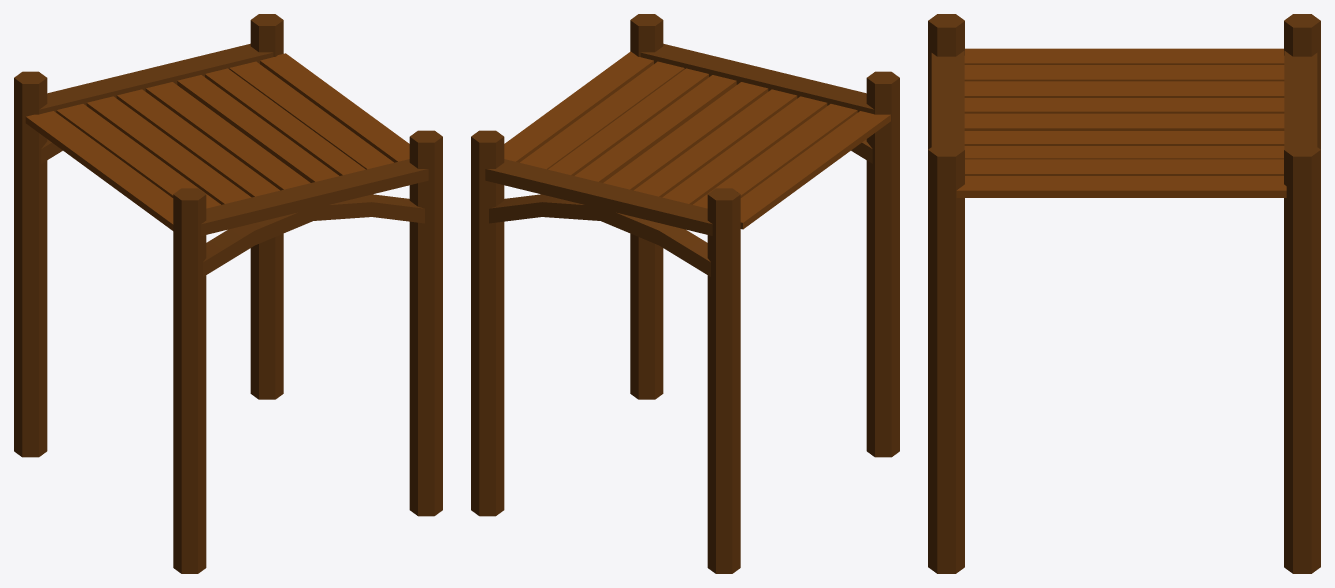
Rendered from Mesh_Small_Dock.fbx.
3 views of the same model, side by side, from view 1: azimuth 30°, elevation 25°; view 2: azimuth 150°, elevation 25°; view 3: azimuth 270°, elevation 25° (orthographic). The views are drawn at different scales.
Parts seen in each view (by area): view 1: Small_Dock; view 2: Small_Dock; view 3: Small_Dock.
Boxes of the visible parts, bbox=[...] form: Small_Dock: bbox=[14, 14, 442, 573]; Small_Dock: bbox=[471, 14, 899, 573]; Small_Dock: bbox=[928, 14, 1320, 573].
Bounding box in the file's own units: 367 × 502 × 428.
1 material, 1 textured.
